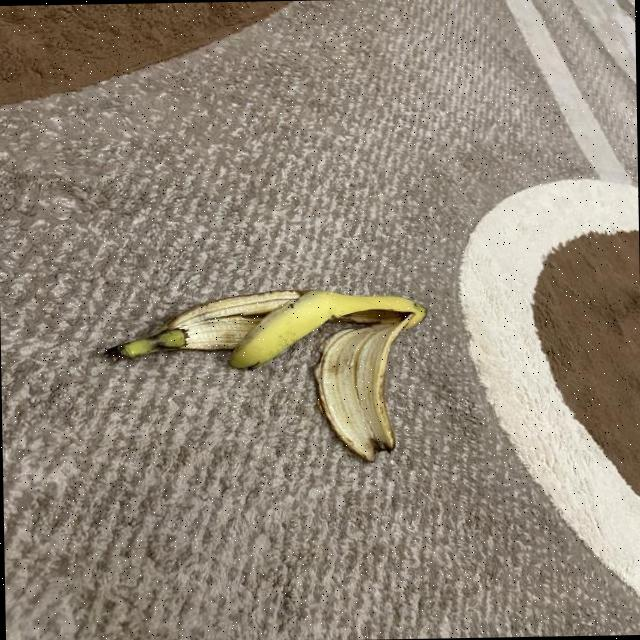banana-peel: (102, 284, 430, 466), (226, 286, 427, 371), (100, 288, 302, 360)
